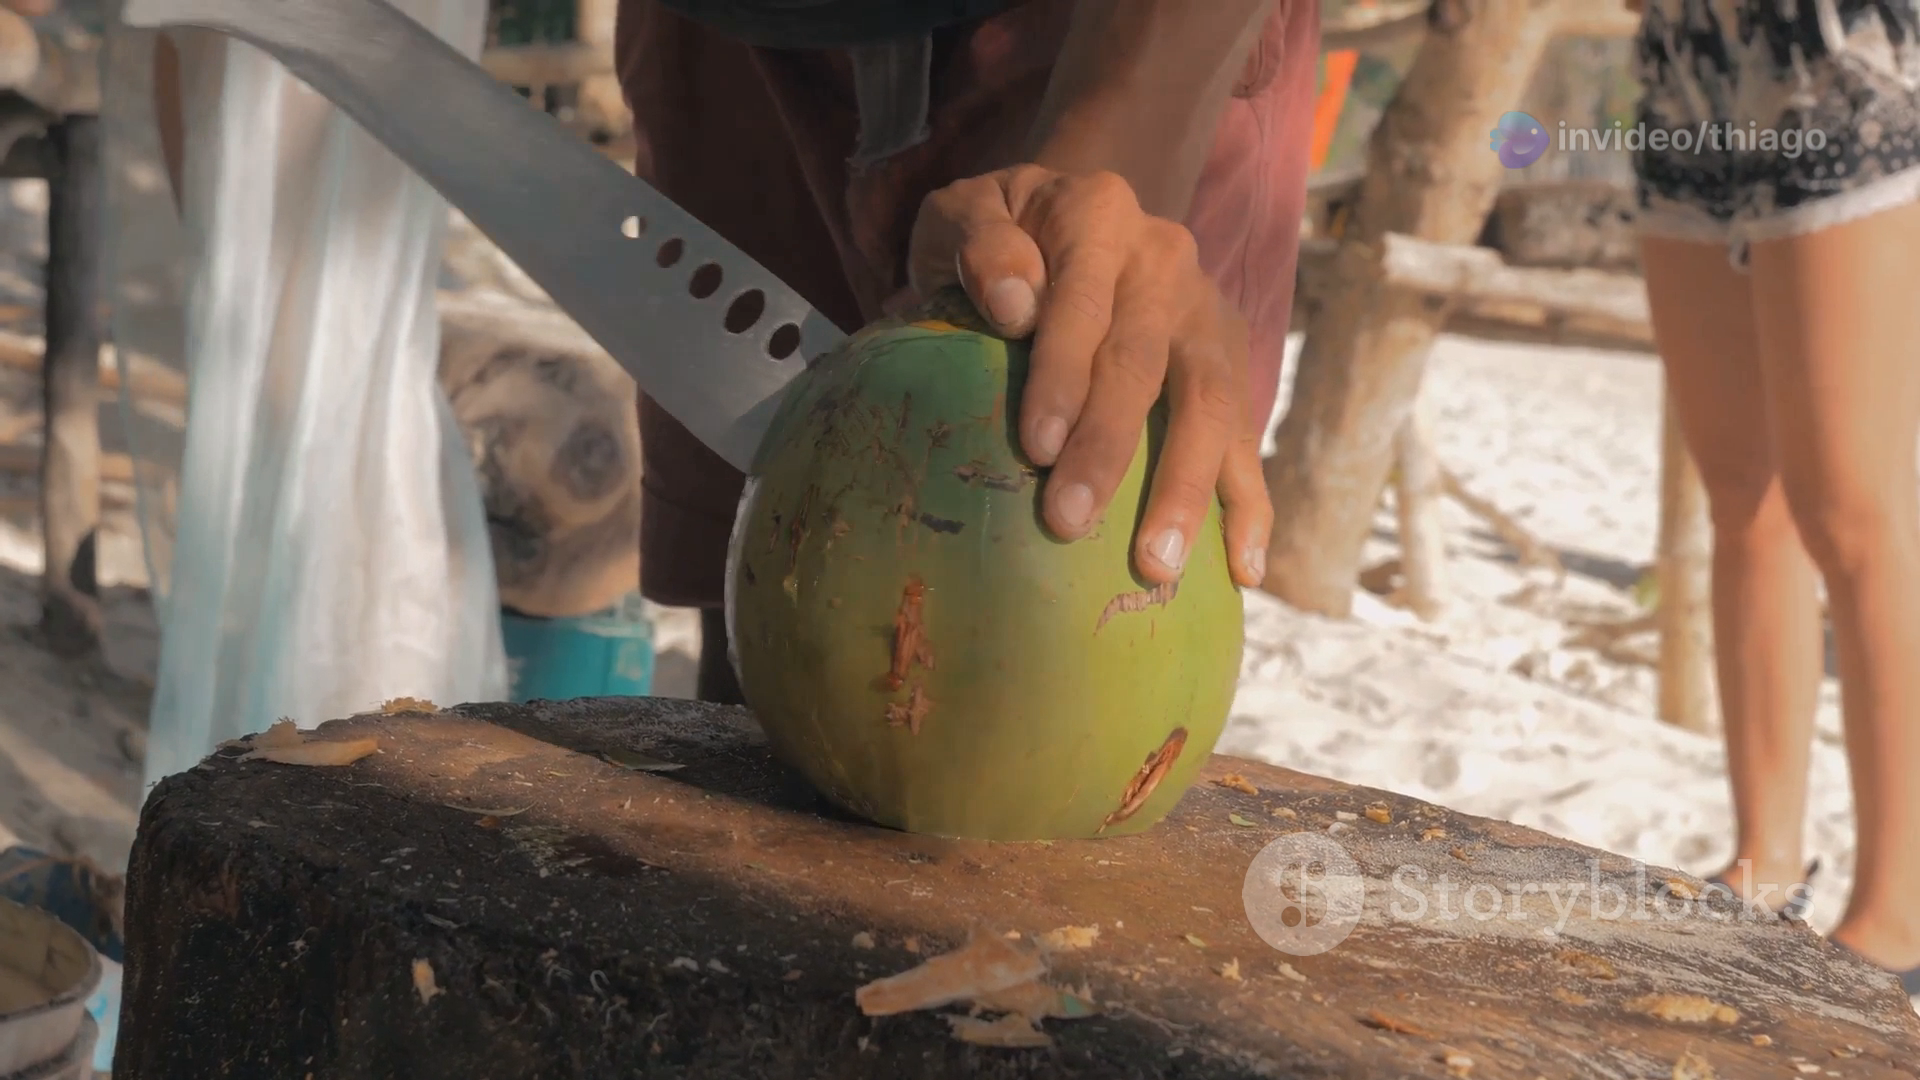cortante: (119, 0, 852, 479)
